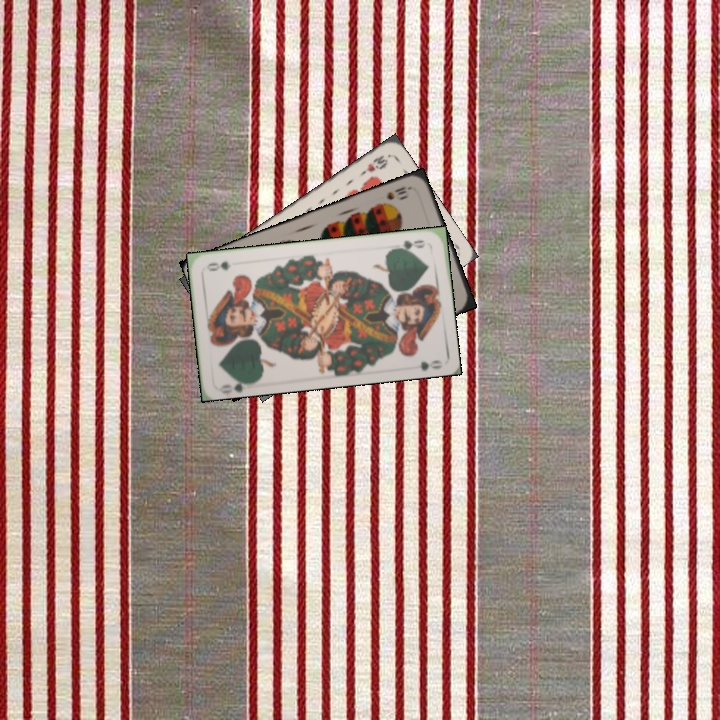GO: (216, 373, 256, 393), (391, 236, 428, 253)
H10: (355, 151, 391, 179)
S10: (383, 182, 409, 203)
